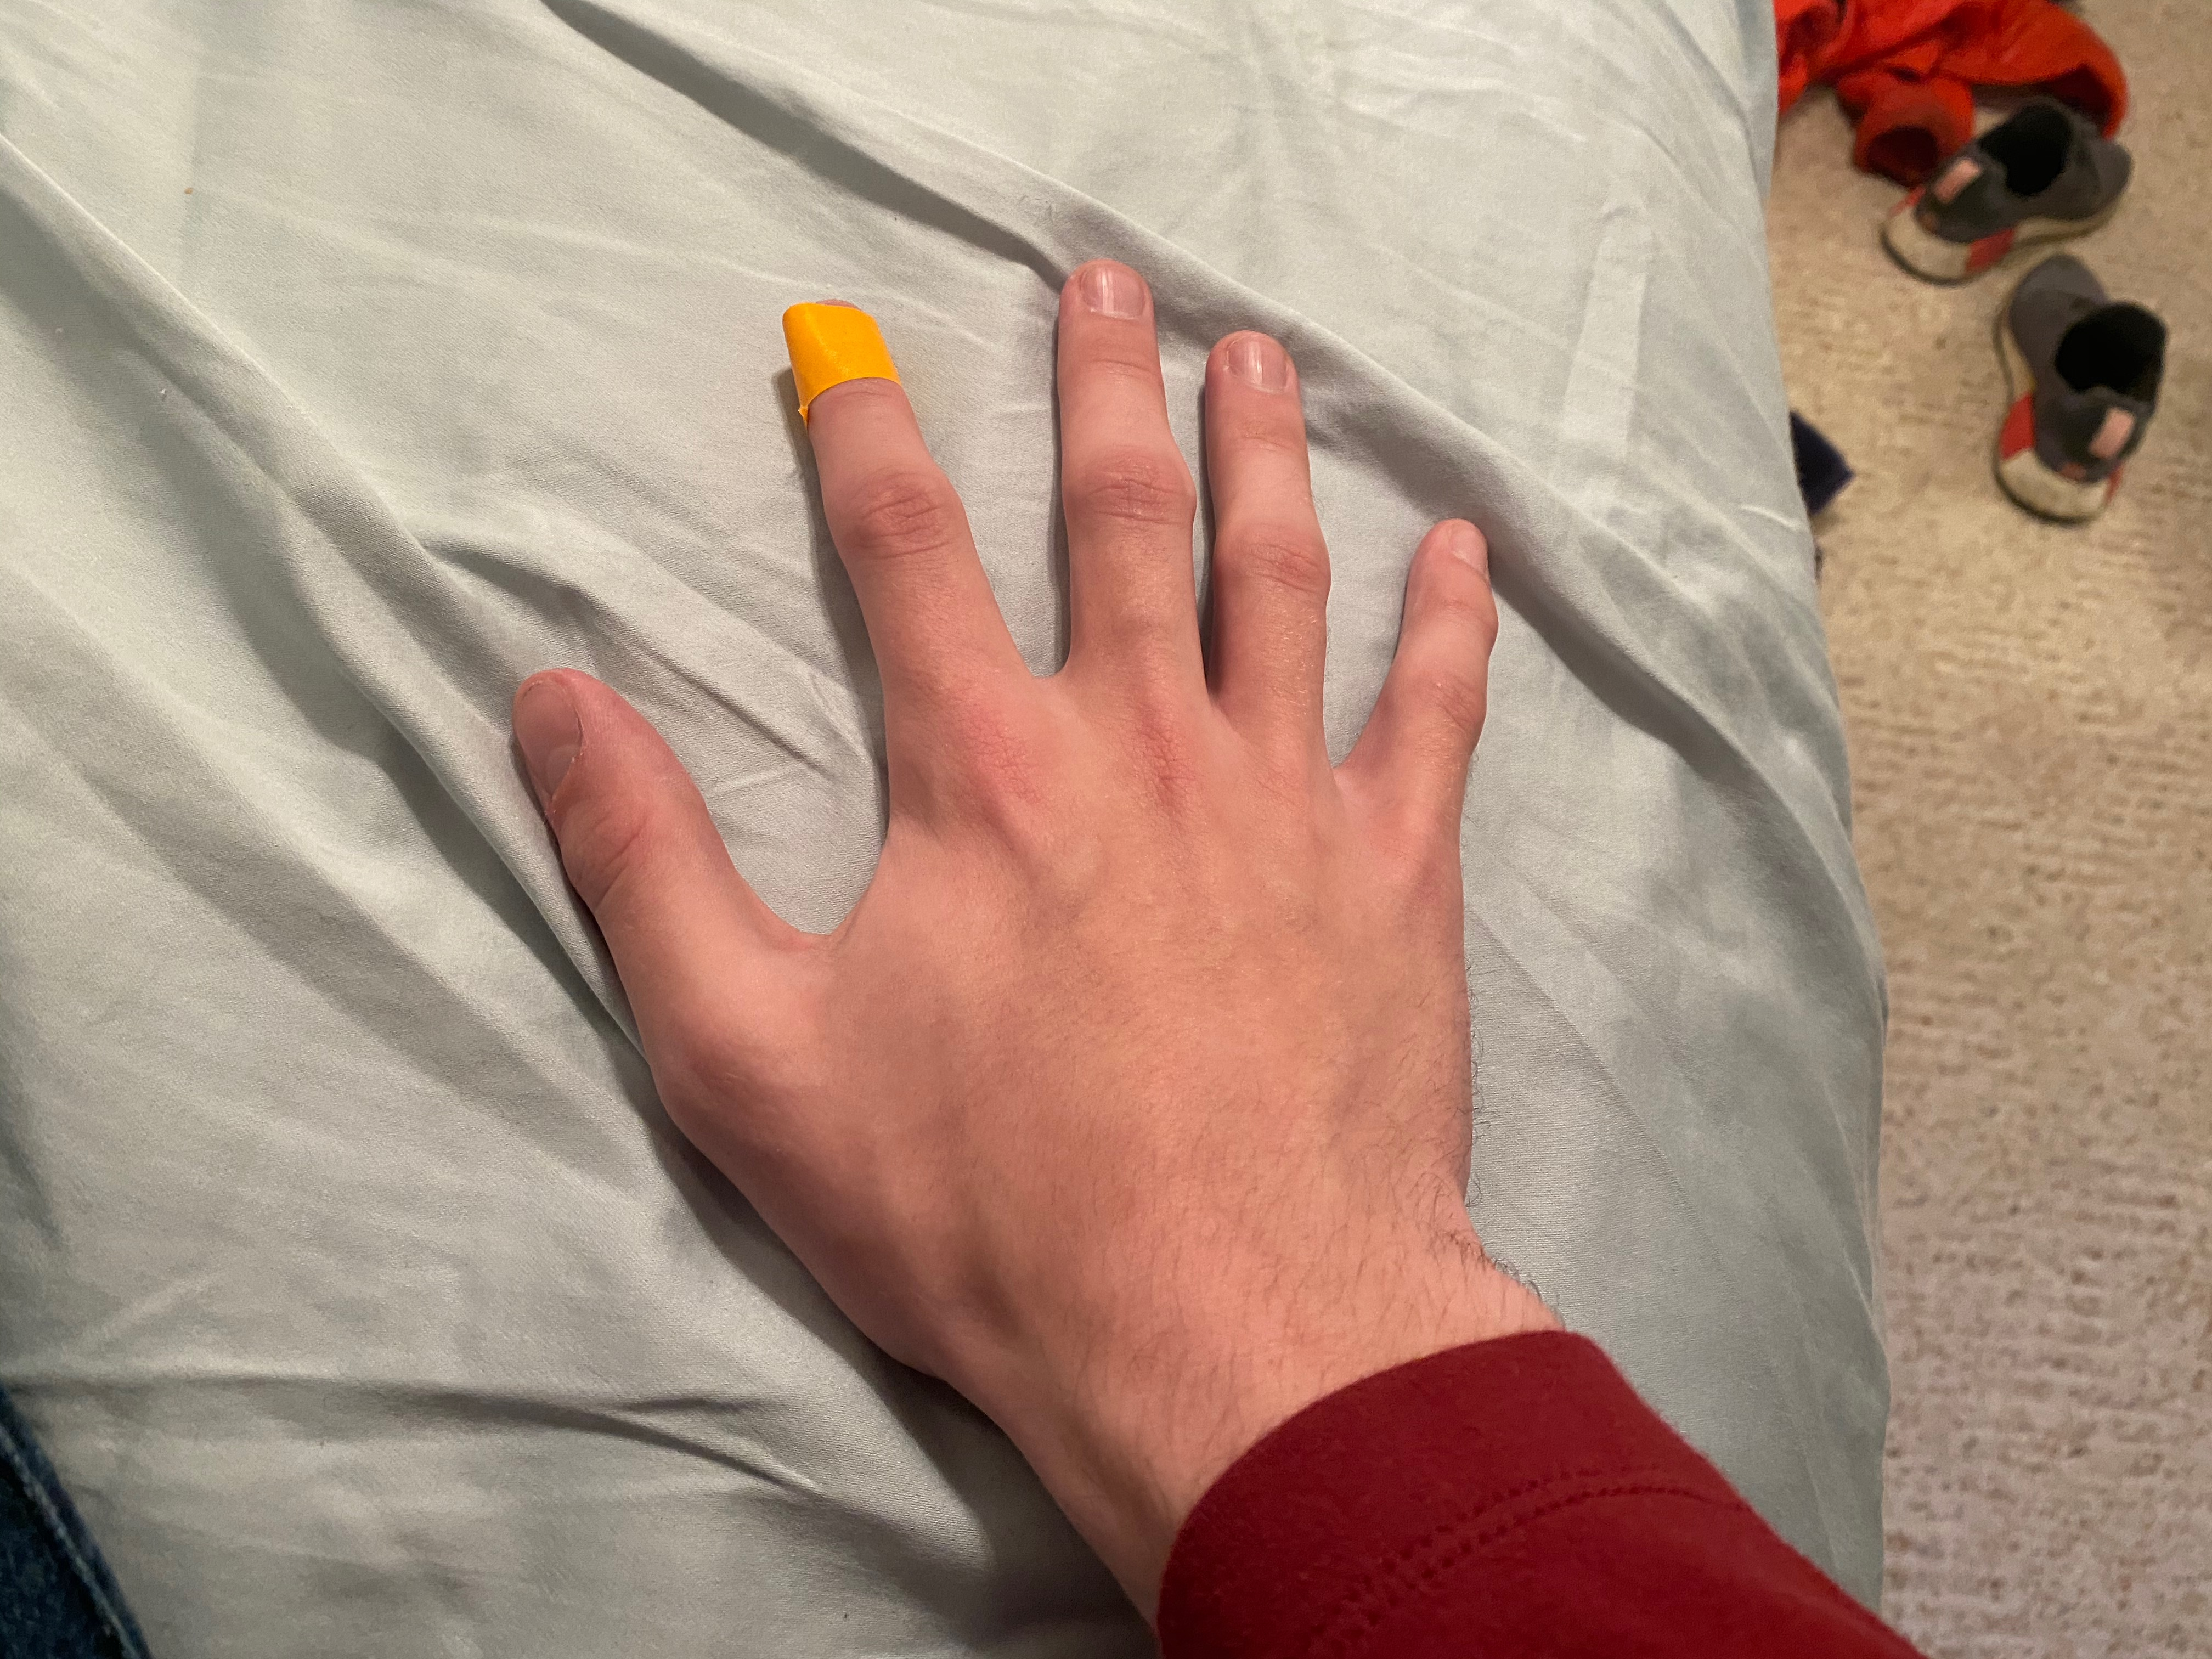fingertip: (768, 298, 974, 451)
